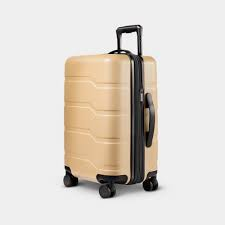suitcase: (62, 23, 161, 200)
